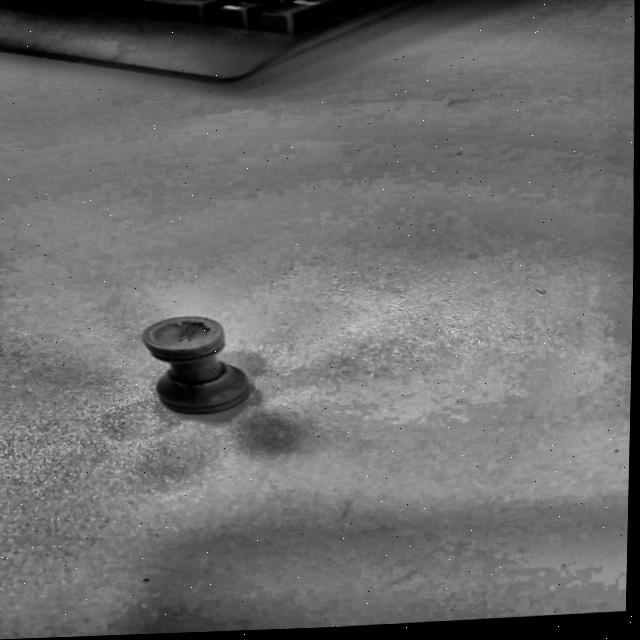white-rook: (142, 316, 250, 415)
